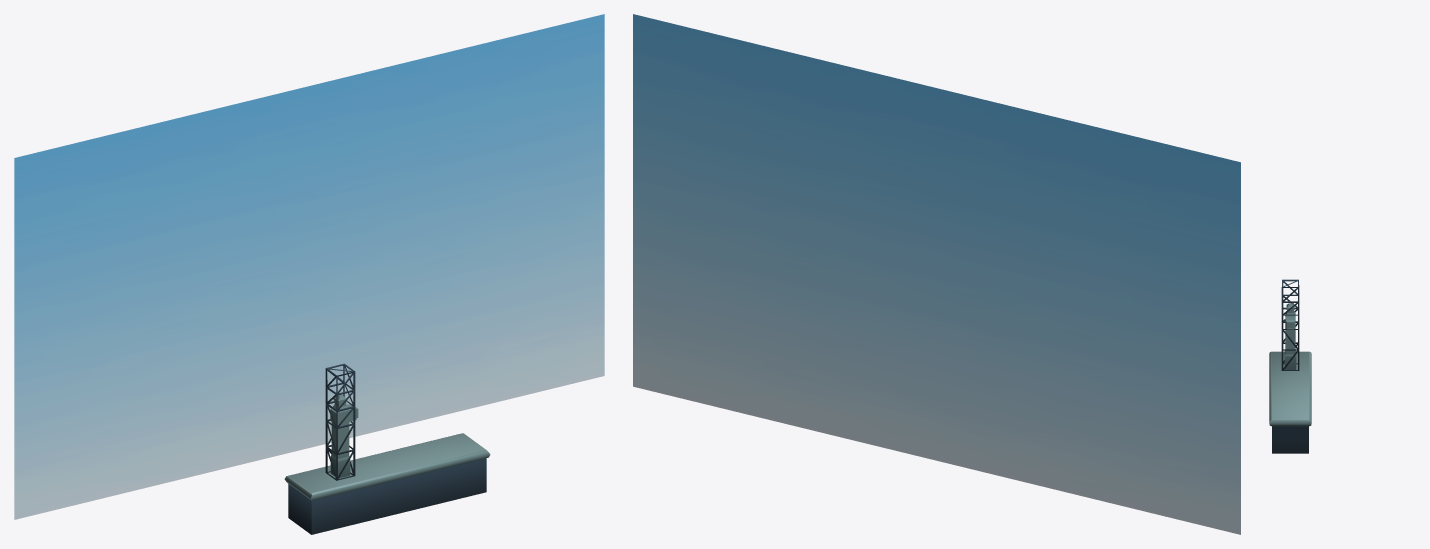
Rendered from RocketBase.fbx.
3 views of the same model, side by side, from view 1: azimuth 30°, elevation 25°; view 2: azimuth 150°, elevation 25°; view 3: azimuth 270°, elevation 25° (orthographic). The views are drawn at different scales.
Visible parts, largest first — view 1: Sky, RocketBase, RocketStation, RocketStation_Entry; view 2: Sky; view 3: RocketBase, RocketStation, RocketStation_Entry.
Boxes of the visible parts, x1=… form: Sky: x1=14, y1=14, x2=604, y2=519; RocketBase: x1=284, y1=433, x2=490, y2=534; RocketStation: x1=325, y1=363, x2=355, y2=480; RocketStation_Entry: x1=330, y1=394, x2=358, y2=478; Sky: x1=633, y1=14, x2=1240, y2=534; RocketBase: x1=1269, y1=351, x2=1311, y2=453; RocketStation: x1=1281, y1=279, x2=1299, y2=370; RocketStation_Entry: x1=1284, y1=303, x2=1296, y2=369.
Size of the model in its own units: 2938 by 1721 by 786.
